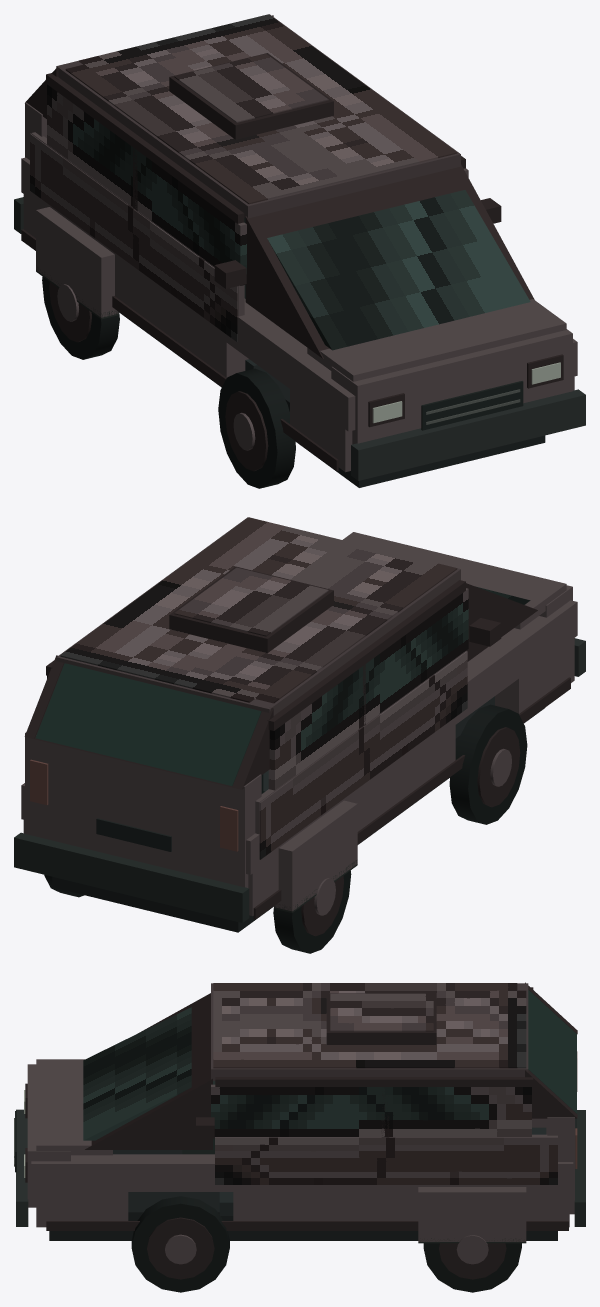
File: CMU3DRMCPropVehicleMonoSupronPink.glb
3 views of the same model, one above another, from view 1: azimuth 30°, elevation 25°; view 2: azimuth 150°, elevation 25°; view 3: azimuth 270°, elevation 25° (orthographic). The views are drawn at different scales.
Parts seen in each view (by area): view 1: source roof panel, continuous sloped windshield, painted side door -1 0, side glazing -1 0, sloping windshield surround, nose lower panel, front bumper, hood top, upper wheel arch rail -1, roof base, roof pod original top, rear wheel cover (+17 smaller); view 2: source roof panel, rear tailgate, raked rear glazing, painted side door -1 0, side glazing -1 0, rear black bumper, upper wheel arch rail -1, roof pod original top, rear wheel cover, tire 1 -1, lower skirt -1 1, hood top (+18 smaller); view 3: source roof panel, painted side door 1 0, side glazing 1 0, continuous sloped windshield, lower skirt 1 1, sloping windshield surround, upper wheel arch rail 1, rear wheel cover, hood top, chassis dark underside, tire 1 1, roof pod original top (+20 smaller).
Part boxes in pixels (<box>): source roof panel: <box>65,14,457,204</box>; continuous sloped windshield: <box>267,190,530,350</box>; painted side door -1 0: <box>30,133,237,341</box>; side glazing -1 0: <box>47,84,246,285</box>; sloping windshield surround: <box>245,164,534,358</box>; nose lower panel: <box>331,329,572,444</box>; front bumper: <box>351,389,585,480</box>; hood top: <box>307,299,566,381</box>; upper wheel arch rail -1: <box>21,157,355,431</box>; roof base: <box>56,14,460,218</box>; roof pod original top: <box>174,54,328,122</box>; rear wheel cover: <box>36,207,119,317</box>; source roof panel: <box>60,517,457,703</box>; rear tailgate: <box>25,732,261,887</box>; raked rear glazing: <box>35,663,261,785</box>; painted side door -1 0: <box>259,651,467,859</box>; side glazing -1 0: <box>268,588,468,790</box>; rear black bumper: <box>14,832,249,922</box>; upper wheel arch rail -1: <box>246,600,577,874</box>; roof pod original top: <box>174,567,328,636</box>; rear wheel cover: <box>274,800,357,911</box>; tire 1 -1: <box>449,704,527,824</box>; lower skirt -1 1: <box>343,718,455,831</box>; hood top: <box>343,532,566,629</box>; source roof panel: <box>213,983,526,1068</box>; painted side door 1 0: <box>215,1137,557,1184</box>; side glazing 1 0: <box>211,1084,531,1136</box>; continuous sloped windshield: <box>83,1007,191,1140</box>; lower skirt 1 1: <box>233,1185,419,1220</box>; sloping windshield surround: <box>85,993,212,1149</box>; upper wheel arch rail 1: <box>31,1154,573,1191</box>; rear wheel cover: <box>418,1187,526,1241</box>; hood top: <box>36,1059,112,1155</box>; chassis dark underside: <box>49,1150,557,1240</box>; tire 1 1: <box>131,1196,229,1292</box>; roof pod original top: <box>330,993,433,1031</box>.
Bounding box in the file's own units: 0.9117 × 0.8778 × 1.98.
23 materials, 5 textured.
